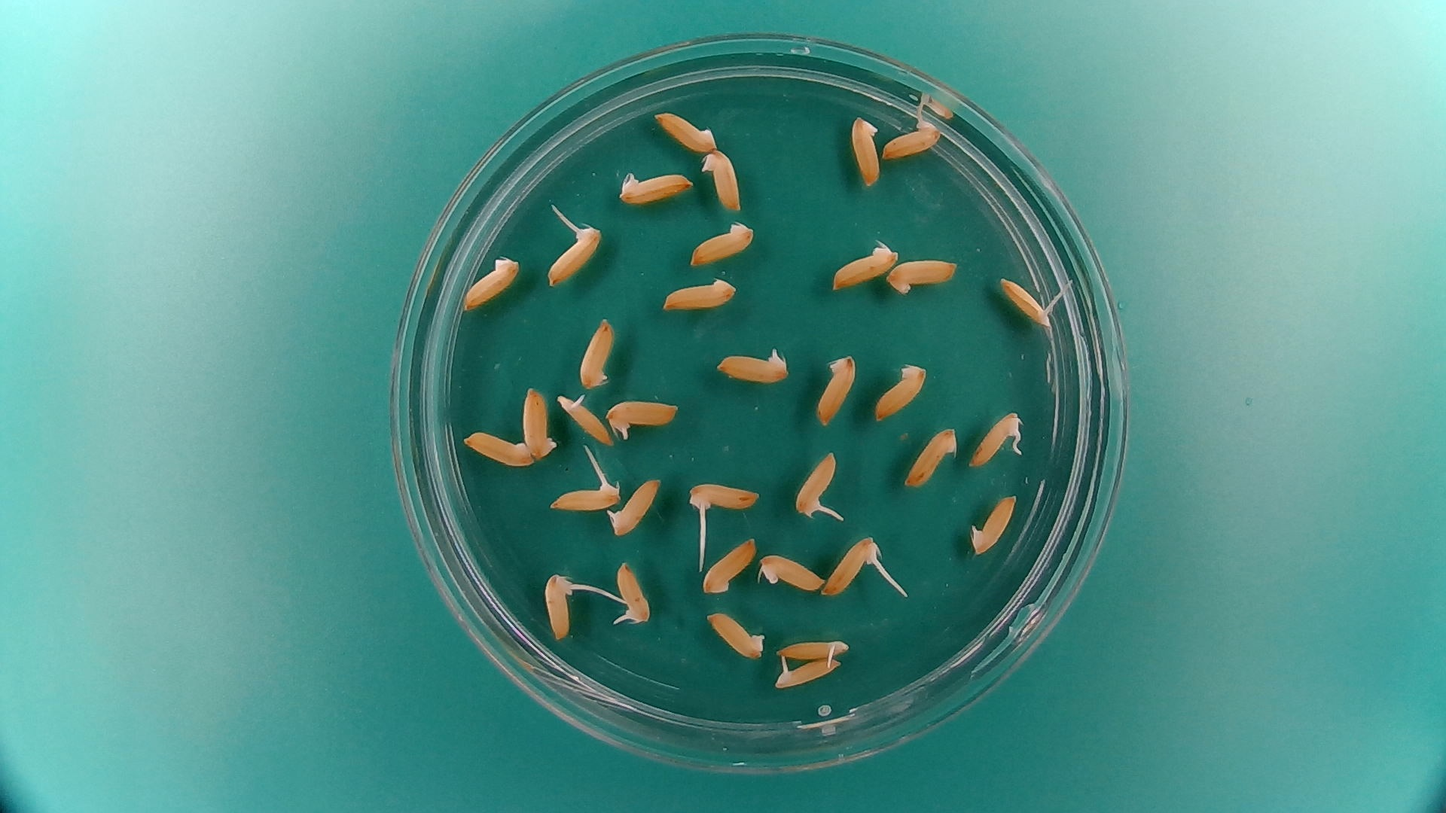no: (826, 236, 901, 291), (813, 349, 861, 431), (871, 359, 932, 423), (459, 252, 523, 312), (700, 533, 761, 595), (903, 423, 960, 488), (685, 218, 758, 267), (613, 166, 697, 207), (575, 312, 618, 391), (660, 275, 739, 318), (703, 608, 767, 660), (698, 145, 746, 214), (884, 254, 962, 296), (459, 427, 535, 470), (521, 382, 560, 460), (651, 108, 718, 152), (757, 552, 826, 594), (847, 111, 882, 189)
yes: (542, 207, 606, 289), (821, 533, 888, 598), (791, 446, 842, 522), (680, 477, 767, 521), (602, 394, 684, 440), (606, 473, 663, 539), (966, 408, 1025, 470), (710, 342, 792, 386), (554, 391, 616, 449), (542, 568, 587, 644), (967, 490, 1018, 557), (996, 273, 1055, 328), (609, 556, 653, 629), (547, 470, 622, 512), (880, 114, 944, 160), (771, 656, 846, 692), (770, 633, 853, 662)
